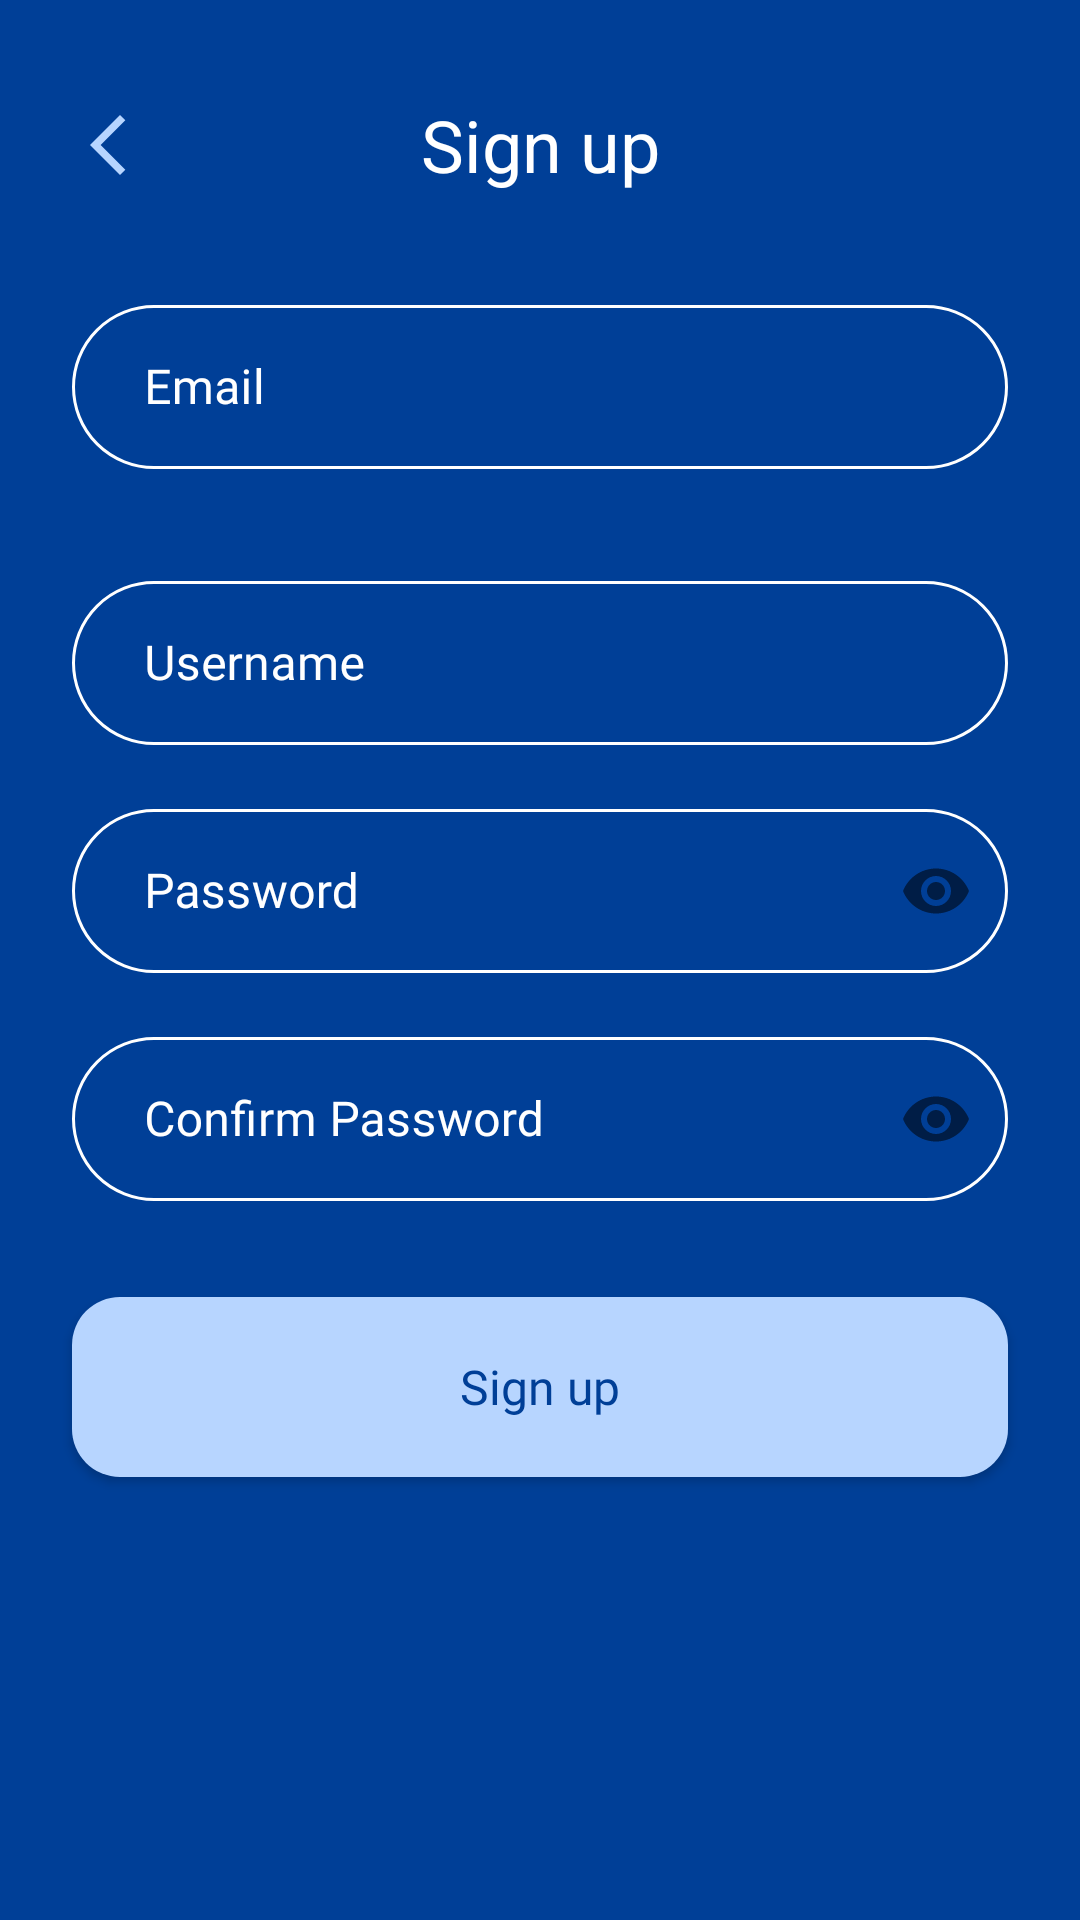

Where icons sit on this 1080x1920 app screen, as (x1, y1, x2, y2):
Back: (90, 115, 125, 175)
